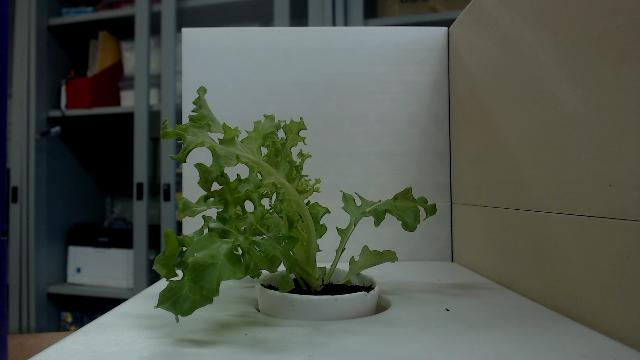Harvest Stage: (154, 84, 438, 328)
